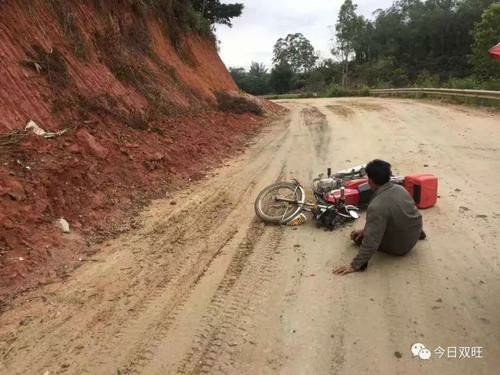fall: (335, 152, 434, 286)
